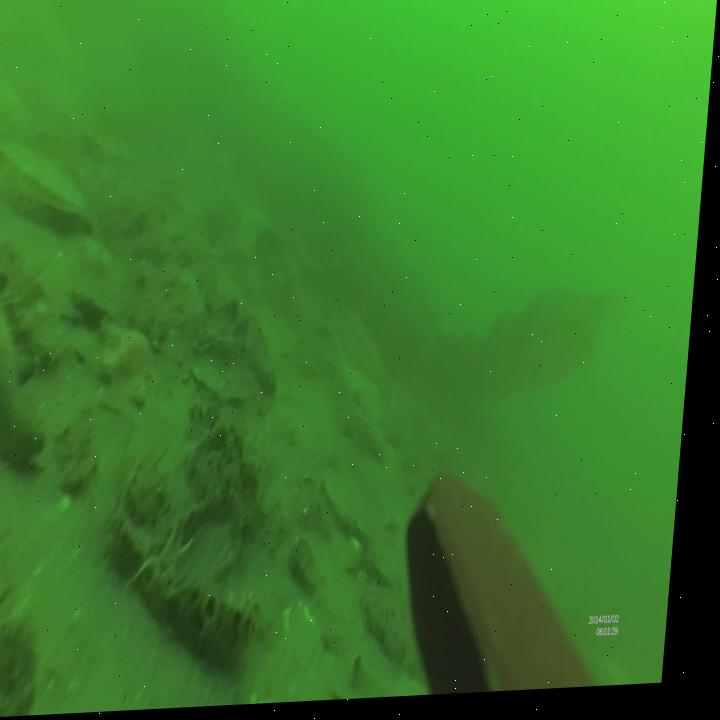scallop: (0, 113, 101, 240)
starfish: (0, 266, 63, 483), (101, 315, 166, 407)
